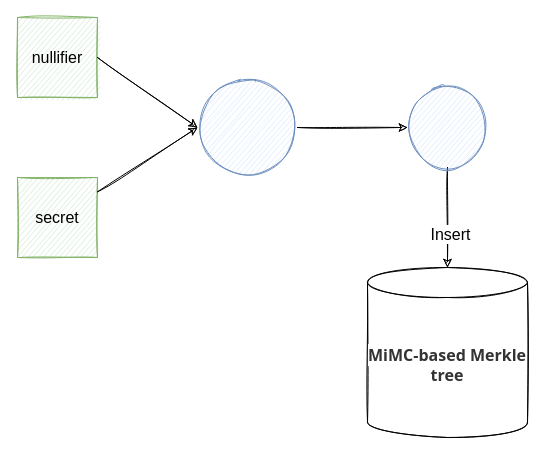
Image size: 545x455. Some labels were removed from this diagram. The shapes that lost their labels are listed below. From the top down, each one's centre as x and y in pixels, then its label:
At pixel 247 127: "Pedersen Commitment".
At pixel 447 127: "MiMC hash function".
